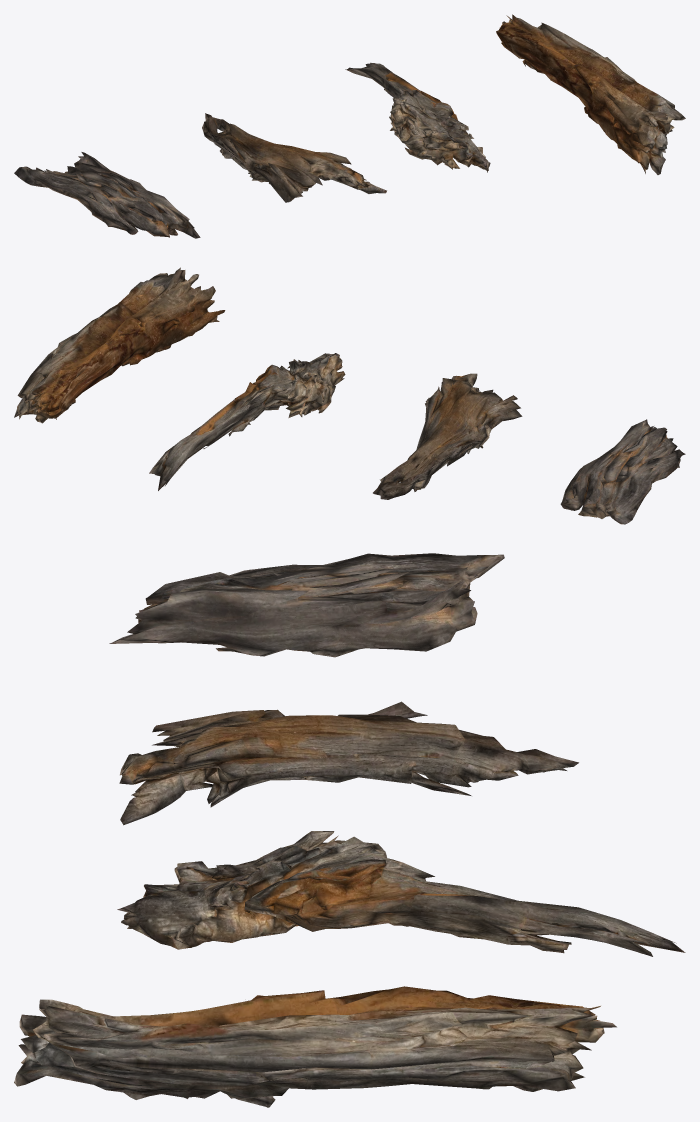
File: bark_debris_01.glb
The picture shows the model from 3 angles, top to bottom: view 1: azimuth 30°, elevation 25°; view 2: azimuth 150°, elevation 25°; view 3: azimuth 270°, elevation 25°; orthographic projection. The views are drawn at different scales.
Parts seen in each view (by area): view 1: bark_debris_01_a; view 2: bark_debris_01_a; view 3: bark_debris_01_a.
Boxes of the visible parts, x1=… form: bark_debris_01_a: x1=14, y1=14, x2=685, y2=238; bark_debris_01_a: x1=14, y1=267, x2=685, y2=524; bark_debris_01_a: x1=14, y1=553, x2=685, y2=1107.
Bounding box in the file's own units: 1.21 × 0.1114 × 0.6736.
1 material, 1 textured.
